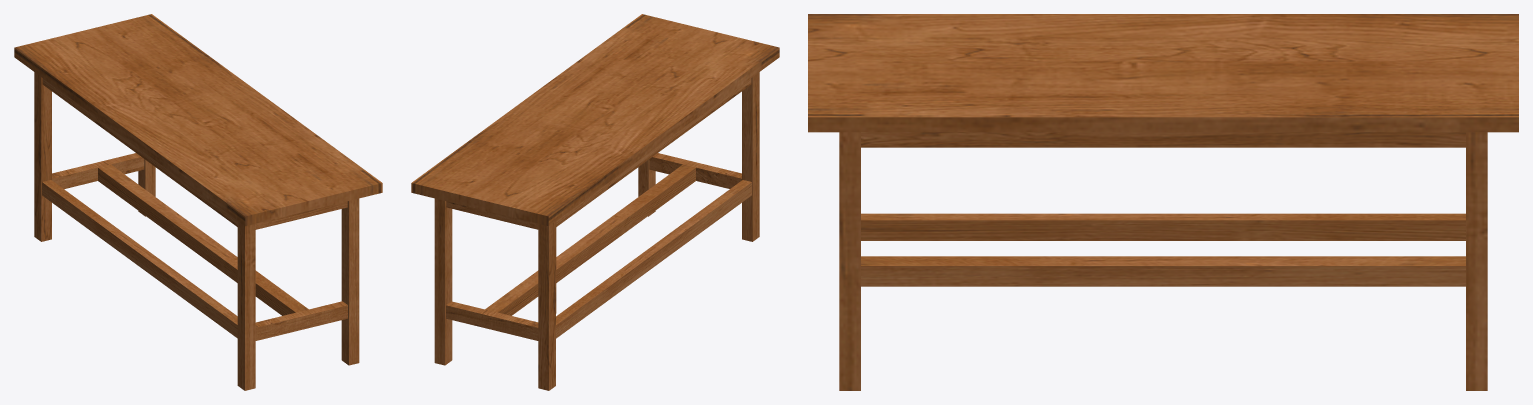
Rendered from M_Home_Garden_WorkTable_02_2.fbx.
The picture shows the model from 3 angles, left to right: view 1: azimuth 30°, elevation 25°; view 2: azimuth 150°, elevation 25°; view 3: azimuth 270°, elevation 25°; orthographic projection. The views are drawn at different scales.
Visible parts, largest first — view 1: M_Home_Garden_WorkTable_02_2; view 2: M_Home_Garden_WorkTable_02_2; view 3: M_Home_Garden_WorkTable_02_2.
Part boxes in pixels (x1=…): M_Home_Garden_WorkTable_02_2: x1=14, y1=14, x2=382, y2=390; M_Home_Garden_WorkTable_02_2: x1=411, y1=14, x2=779, y2=390; M_Home_Garden_WorkTable_02_2: x1=808, y1=14, x2=1518, y2=390.
Bounding box in the file's own units: 85.67 × 110 × 249.
